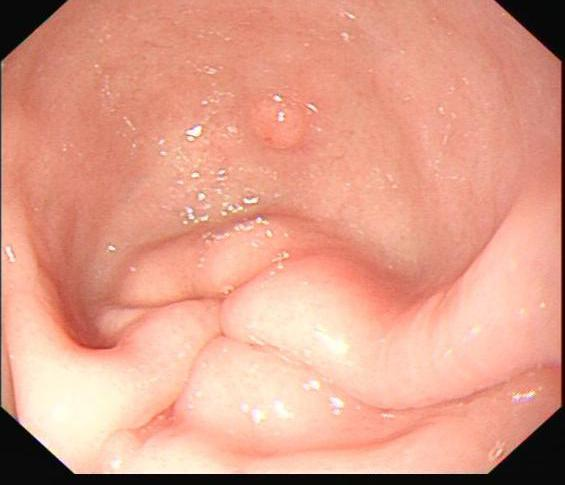Polyp: (231, 90, 323, 161)
